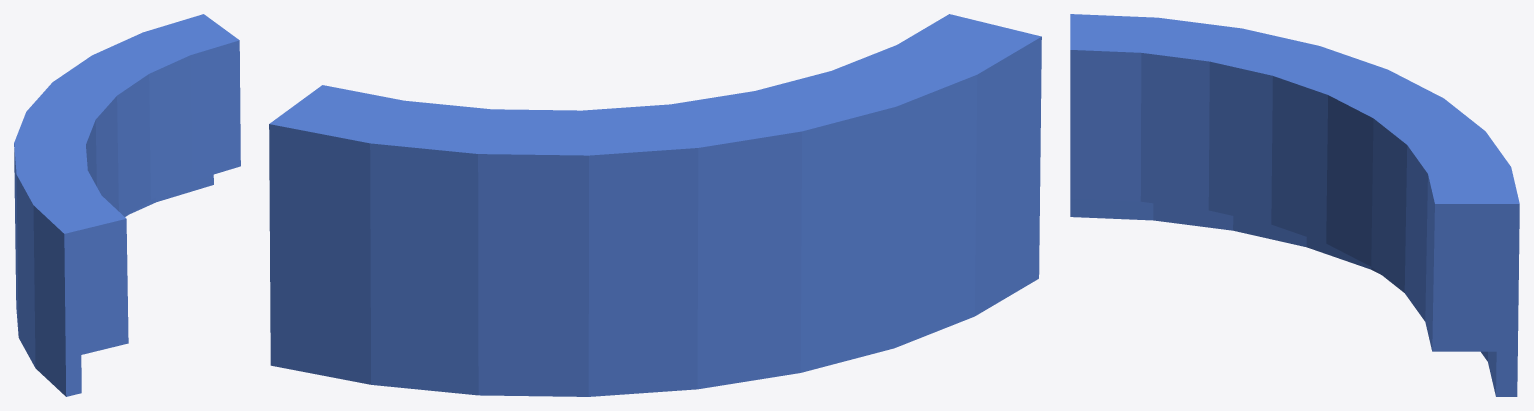
Rendered from TopPlastic_Corner_Round_Inner_Collision.fbx.
3 renders of one model, left to right at view 1: azimuth 30°, elevation 25°; view 2: azimuth 150°, elevation 25°; view 3: azimuth 270°, elevation 25°, orthographic. The views are drawn at different scales.
Visible parts, largest first — view 1: TopPlastic_Corner_Round_Inner_Collision; view 2: TopPlastic_Corner_Round_Inner_Collision; view 3: TopPlastic_Corner_Round_Inner_Collision.
Part boxes in pixels (x1=…): TopPlastic_Corner_Round_Inner_Collision: x1=14, y1=14, x2=240, y2=396; TopPlastic_Corner_Round_Inner_Collision: x1=269, y1=14, x2=1041, y2=396; TopPlastic_Corner_Round_Inner_Collision: x1=1070, y1=14, x2=1519, y2=396.
Bounding box in the file's own units: 422 × 200 × 422.
